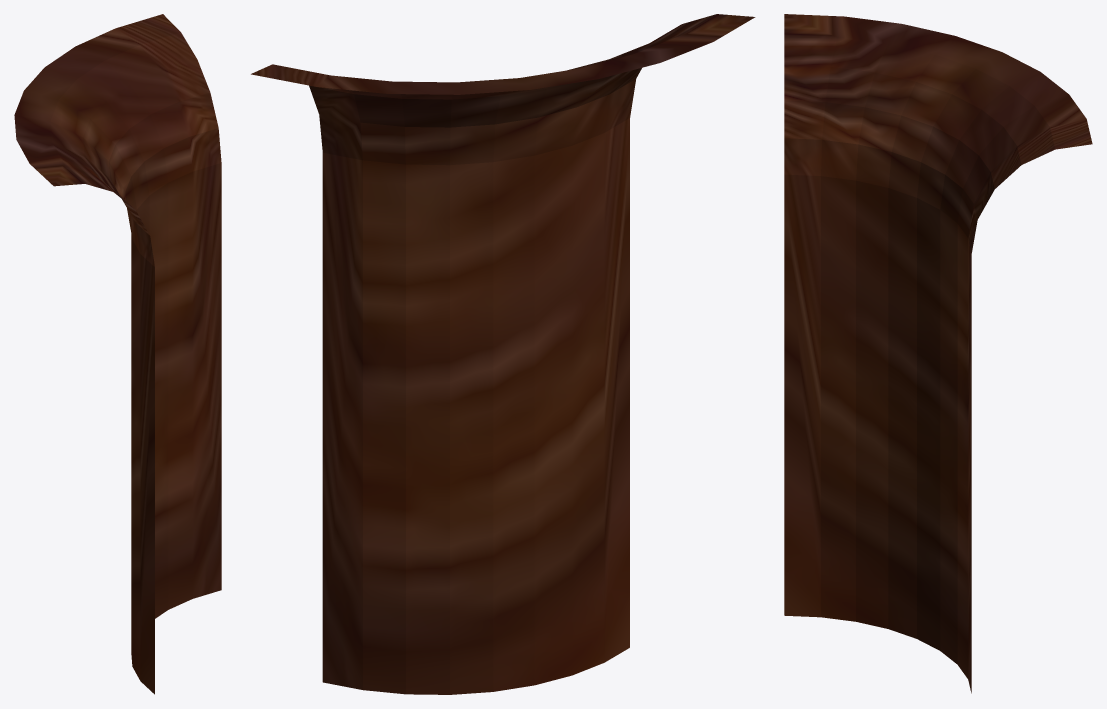
The model's file is baseboard_corner_interior_unit.fbx.
3 renders of one model, left to right at view 1: azimuth 30°, elevation 25°; view 2: azimuth 150°, elevation 25°; view 3: azimuth 270°, elevation 25°, orthographic. The views are drawn at different scales.
Parts seen in each view (by area): view 1: baseboard_corner_exterior_unit; view 2: baseboard_corner_exterior_unit; view 3: baseboard_corner_exterior_unit.
Boxes of the visible parts, <box> form: baseboard_corner_exterior_unit: <box>14,14,221,694</box>; baseboard_corner_exterior_unit: <box>251,14,755,694</box>; baseboard_corner_exterior_unit: <box>784,14,1092,693</box>.
Bounding box in the file's own units: 4.93 × 9.73 × 4.93.
